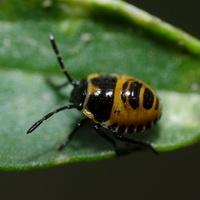insect: (27, 34, 161, 152)
